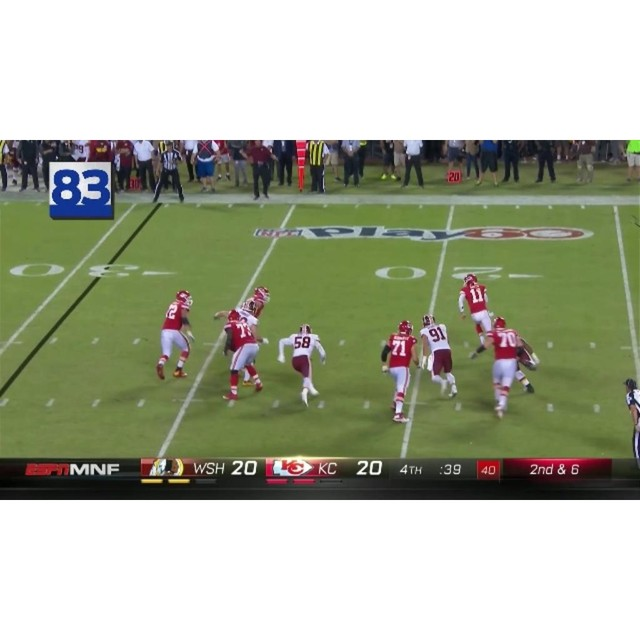american-football-player: (471, 314, 524, 417), (218, 304, 265, 404), (380, 316, 421, 424), (280, 324, 327, 408), (155, 290, 196, 380), (418, 315, 459, 402), (458, 274, 495, 355)
referee: (151, 142, 186, 205), (624, 379, 640, 475)
